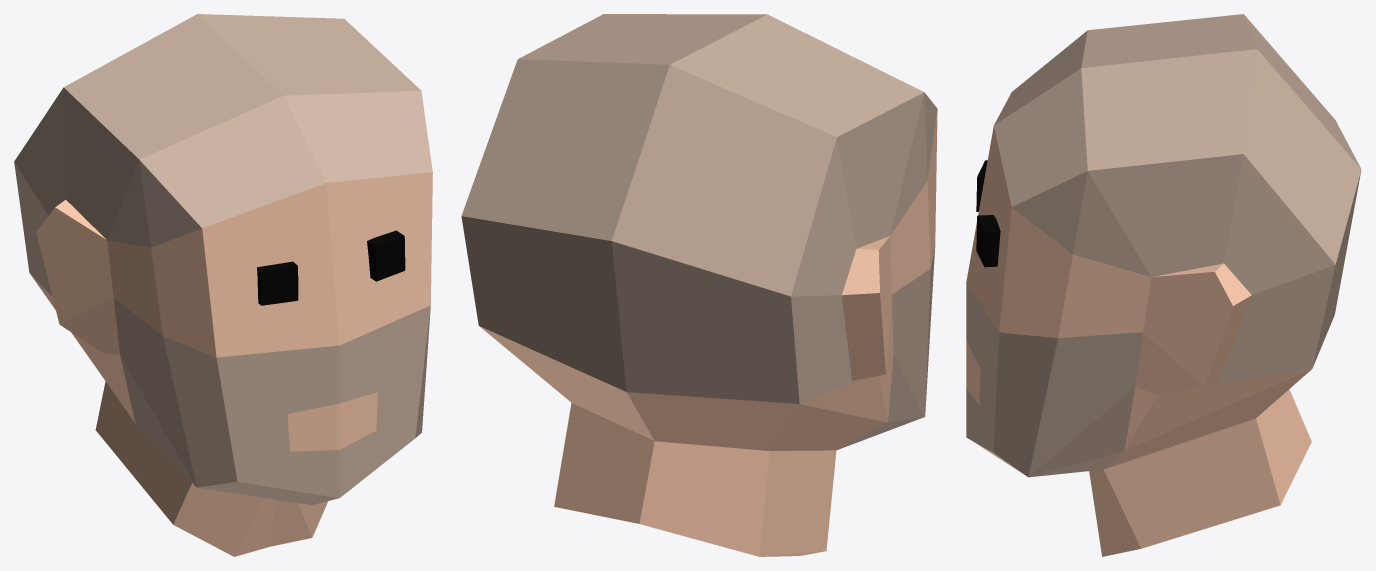
Rendered from Chr_Head_Male_10_Static.fbx.
3 renders of one model, left to right at view 1: azimuth 30°, elevation 25°; view 2: azimuth 150°, elevation 25°; view 3: azimuth 270°, elevation 25°, orthographic. The views are drawn at different scales.
Visible parts, largest first — view 1: Chr_Head_Male_10_Static; view 2: Chr_Head_Male_10_Static; view 3: Chr_Head_Male_10_Static.
Boxes of the visible parts, x1=… form: Chr_Head_Male_10_Static: x1=14, y1=14, x2=432, y2=556; Chr_Head_Male_10_Static: x1=461, y1=14, x2=937, y2=556; Chr_Head_Male_10_Static: x1=966, y1=14, x2=1361, y2=556.
Bounding box in the file's own units: 0.2661 × 0.3523 × 0.2574.
